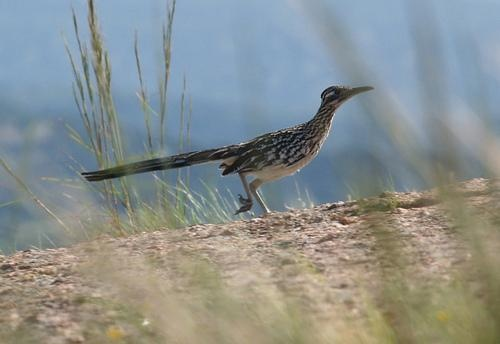bird: (79, 83, 373, 220)
